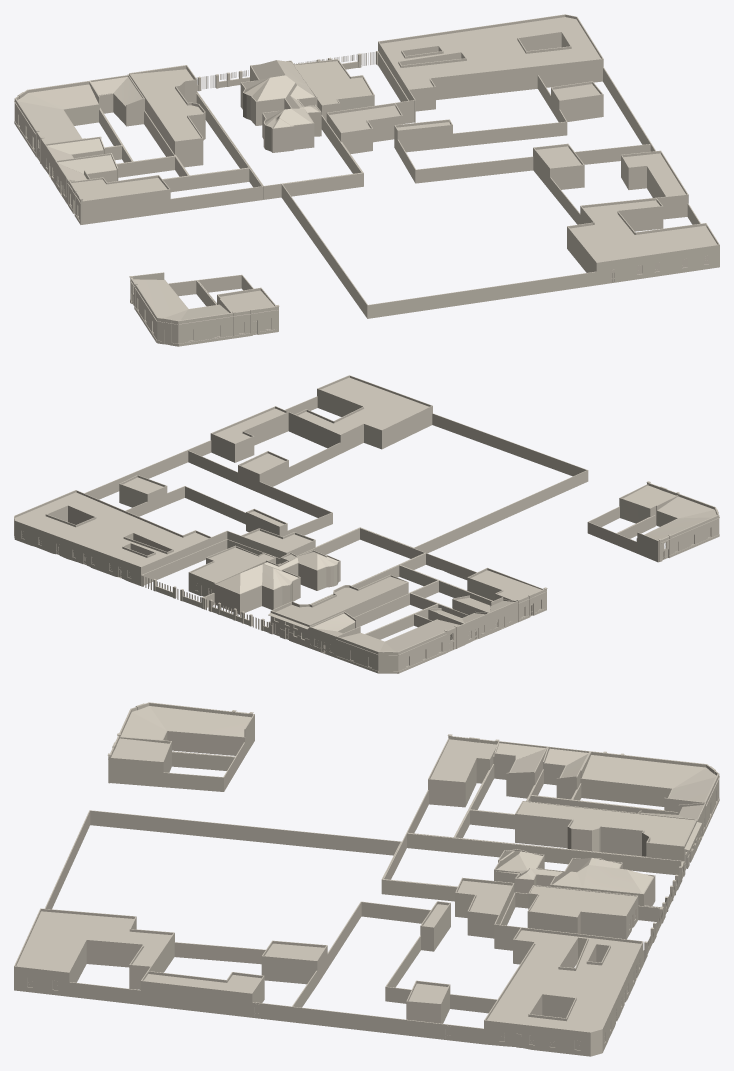
3 renders of one model, top to bottom at view 1: azimuth 30°, elevation 25°; view 2: azimuth 150°, elevation 25°; view 3: azimuth 270°, elevation 25°, orthographic. The views are drawn at different scales.
Visible parts, largest first — view 1: M24; view 2: M24; view 3: M24.
Boxes of the visible parts, <box> form: M24: <box>14,14,719,346</box>; M24: <box>14,375,719,673</box>; M24: <box>14,702,719,1056</box>.
Size of the model in its own units: 146 by 8.05 by 133.
